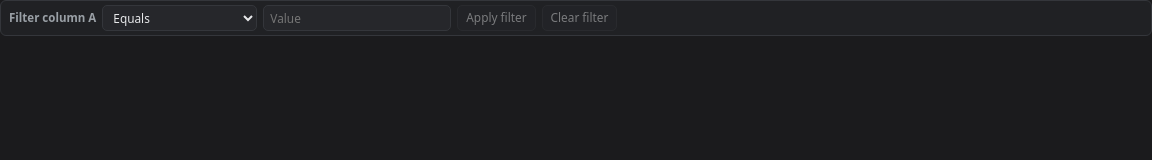
Test case: FilterBar › disables the value input for empty operators
Select "Is empty" in the dropdown named "Filter condition" at (180, 18), box [102,5,257,31]
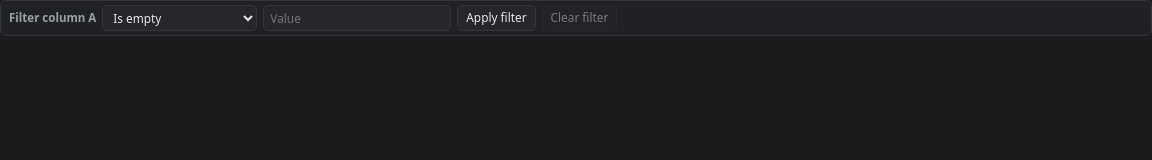
expect the field named "Filter value" is disabled: met, box [263,5,451,31]
expect the button "Apply filter" is enabled: met, box [457,5,536,31]
